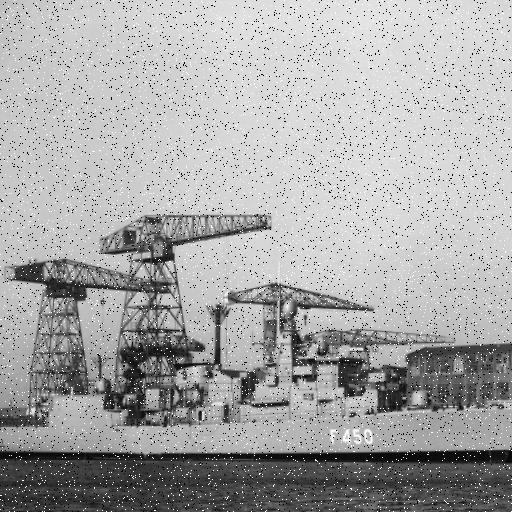Fragata: (1, 266, 512, 465)
